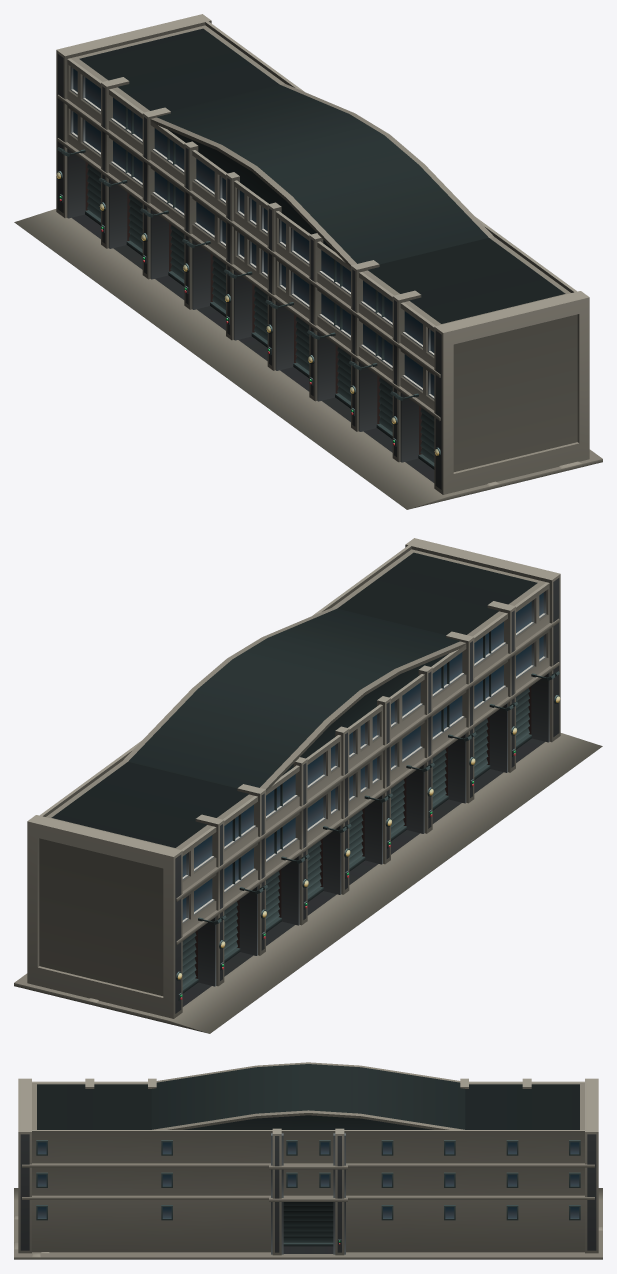
The model's file is Garage_1A.fbx.
The picture shows the model from 3 angles, top to bottom: view 1: azimuth 30°, elevation 25°; view 2: azimuth 150°, elevation 25°; view 3: azimuth 270°, elevation 25°; orthographic projection. The views are drawn at different scales.
Parts seen in each view (by area): view 1: Garage_1A, Addon_Gate_9, Addon_Gate_3, Addon_Gate_6, Addon_Gate_2, Addon_Gate_8, Addon_Gate_5, Addon_Gate_1, Addon_Gate_4, Addon_Gate_7; view 2: Garage_1A, Addon_Gate_1, Addon_Gate_7, Addon_Gate_4, Addon_Gate_8, Addon_Gate_2, Addon_Gate_5, Addon_Gate_9, Addon_Gate_3, Addon_Gate_6; view 3: Garage_1A.
Boxes of the visible parts, <box> form: Garage_1A: <box>14,14,602,509</box>; Addon_Gate_9: <box>418,408,434,469</box>; Addon_Gate_3: <box>168,225,184,286</box>; Addon_Gate_6: <box>293,317,309,377</box>; Addon_Gate_2: <box>126,194,142,255</box>; Addon_Gate_8: <box>376,377,392,438</box>; Addon_Gate_5: <box>251,286,267,347</box>; Addon_Gate_1: <box>85,164,100,225</box>; Addon_Gate_4: <box>210,255,225,316</box>; Addon_Gate_7: <box>335,347,350,408</box>; Garage_1A: <box>14,538,602,1033</box>; Addon_Gate_1: <box>182,932,198,993</box>; Addon_Gate_7: <box>432,749,448,810</box>; Addon_Gate_4: <box>307,841,323,901</box>; Addon_Gate_8: <box>474,718,490,779</box>; Addon_Gate_2: <box>224,901,240,962</box>; Addon_Gate_5: <box>349,810,365,871</box>; Addon_Gate_9: <box>516,688,531,749</box>; Addon_Gate_3: <box>266,871,281,932</box>; Addon_Gate_6: <box>391,779,406,840</box>; Garage_1A: <box>14,1062,602,1259</box>.
Bounding box in the file's own units: 19 × 17.45 × 66.
